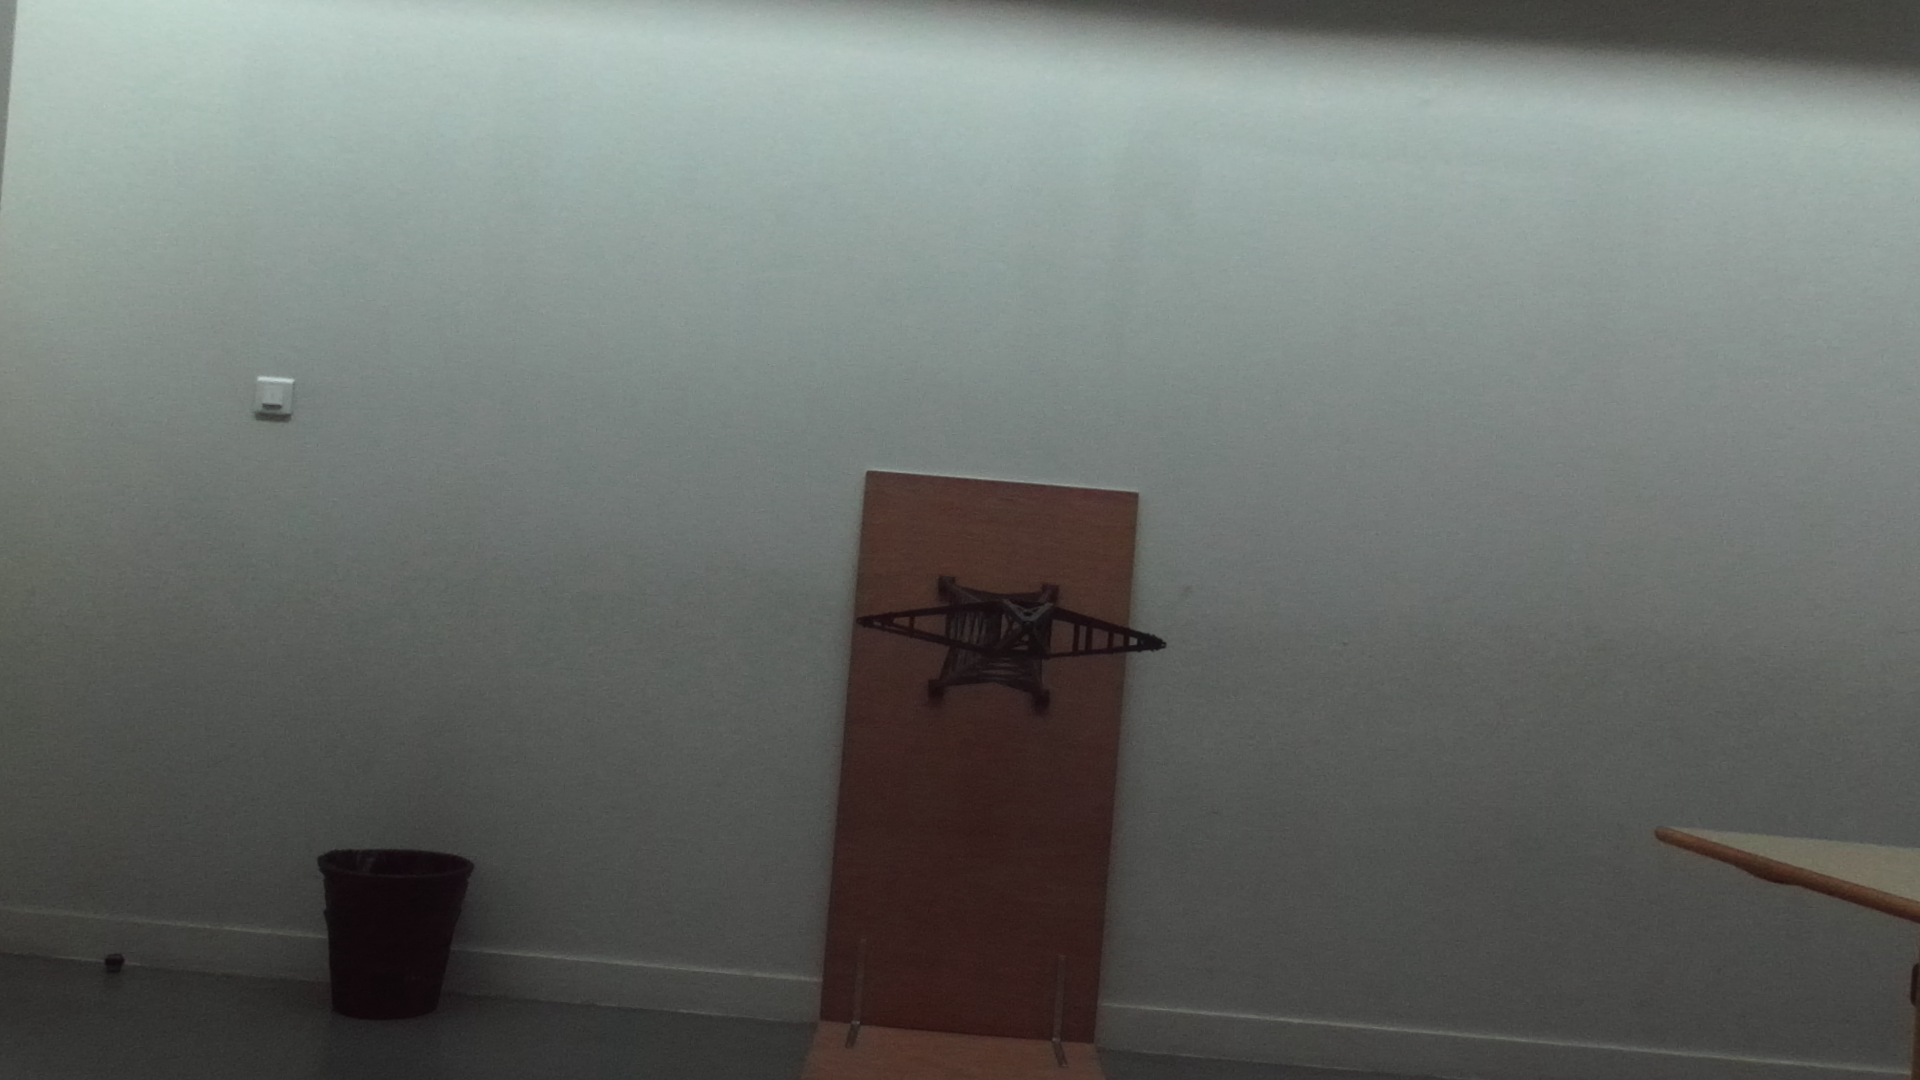pylon_phy: (866, 597, 1168, 659)
